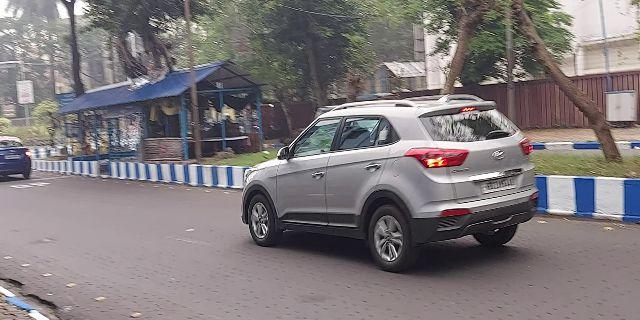Car: (240, 98, 556, 269), (1, 133, 30, 180)
